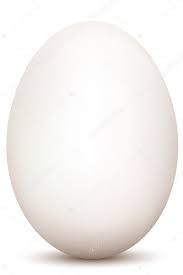eggs: (11, 21, 170, 269)
